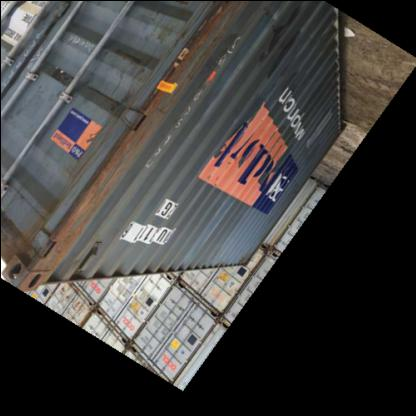Damage: (20, 184, 101, 283), (140, 64, 200, 121), (198, 155, 236, 191)
